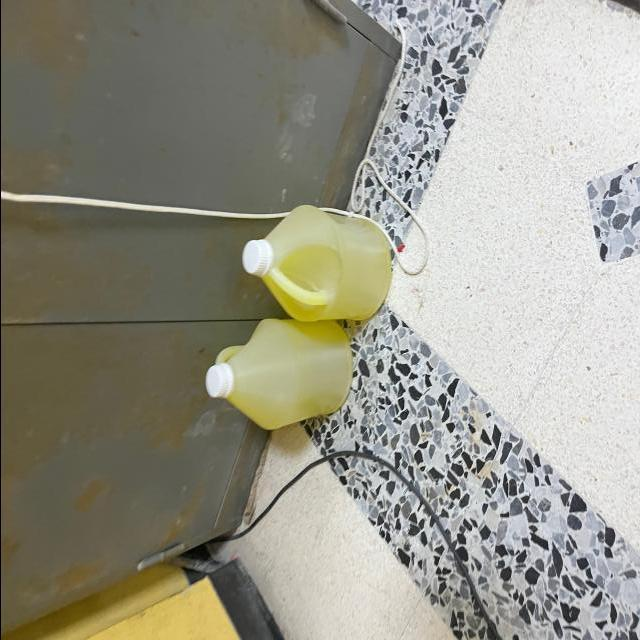HDPE Plastic: (238, 205, 396, 322), (200, 324, 362, 433)
